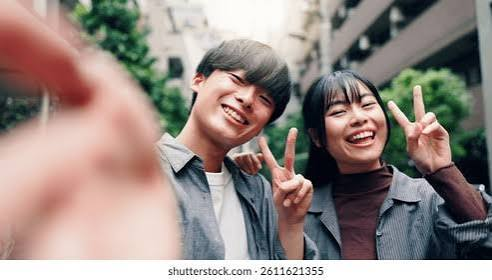peace_sign: (258, 126, 314, 221)
